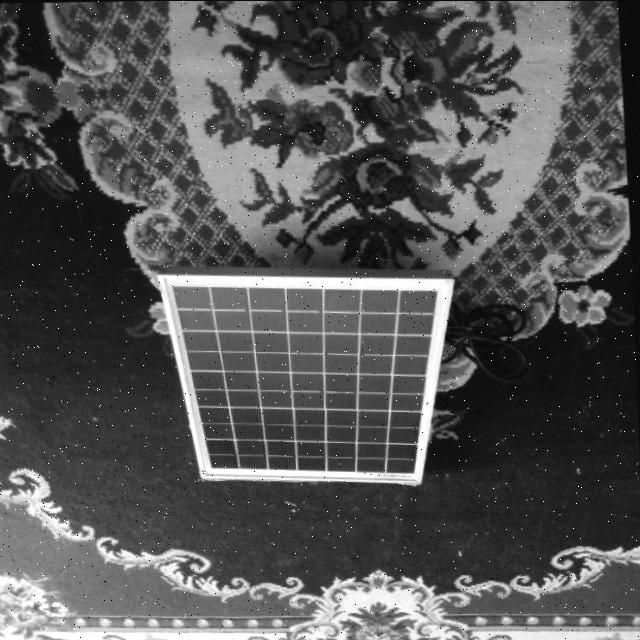Normal Solar Panel: (160, 268, 466, 488)
